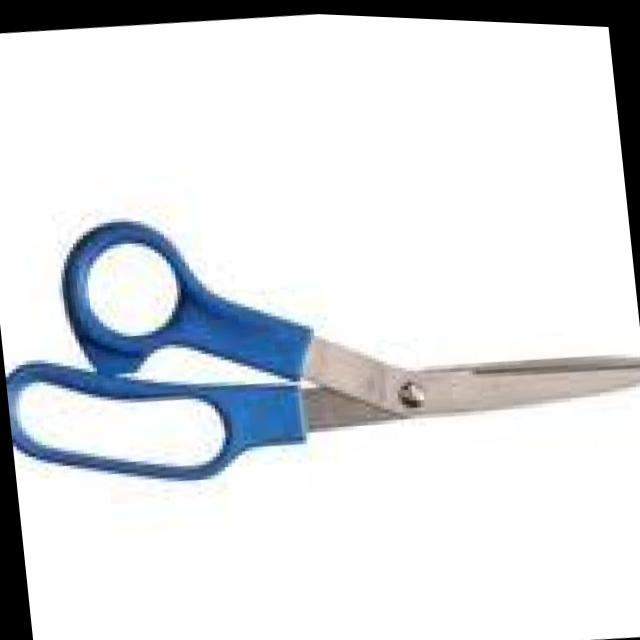scissor: (0, 158, 640, 514)
